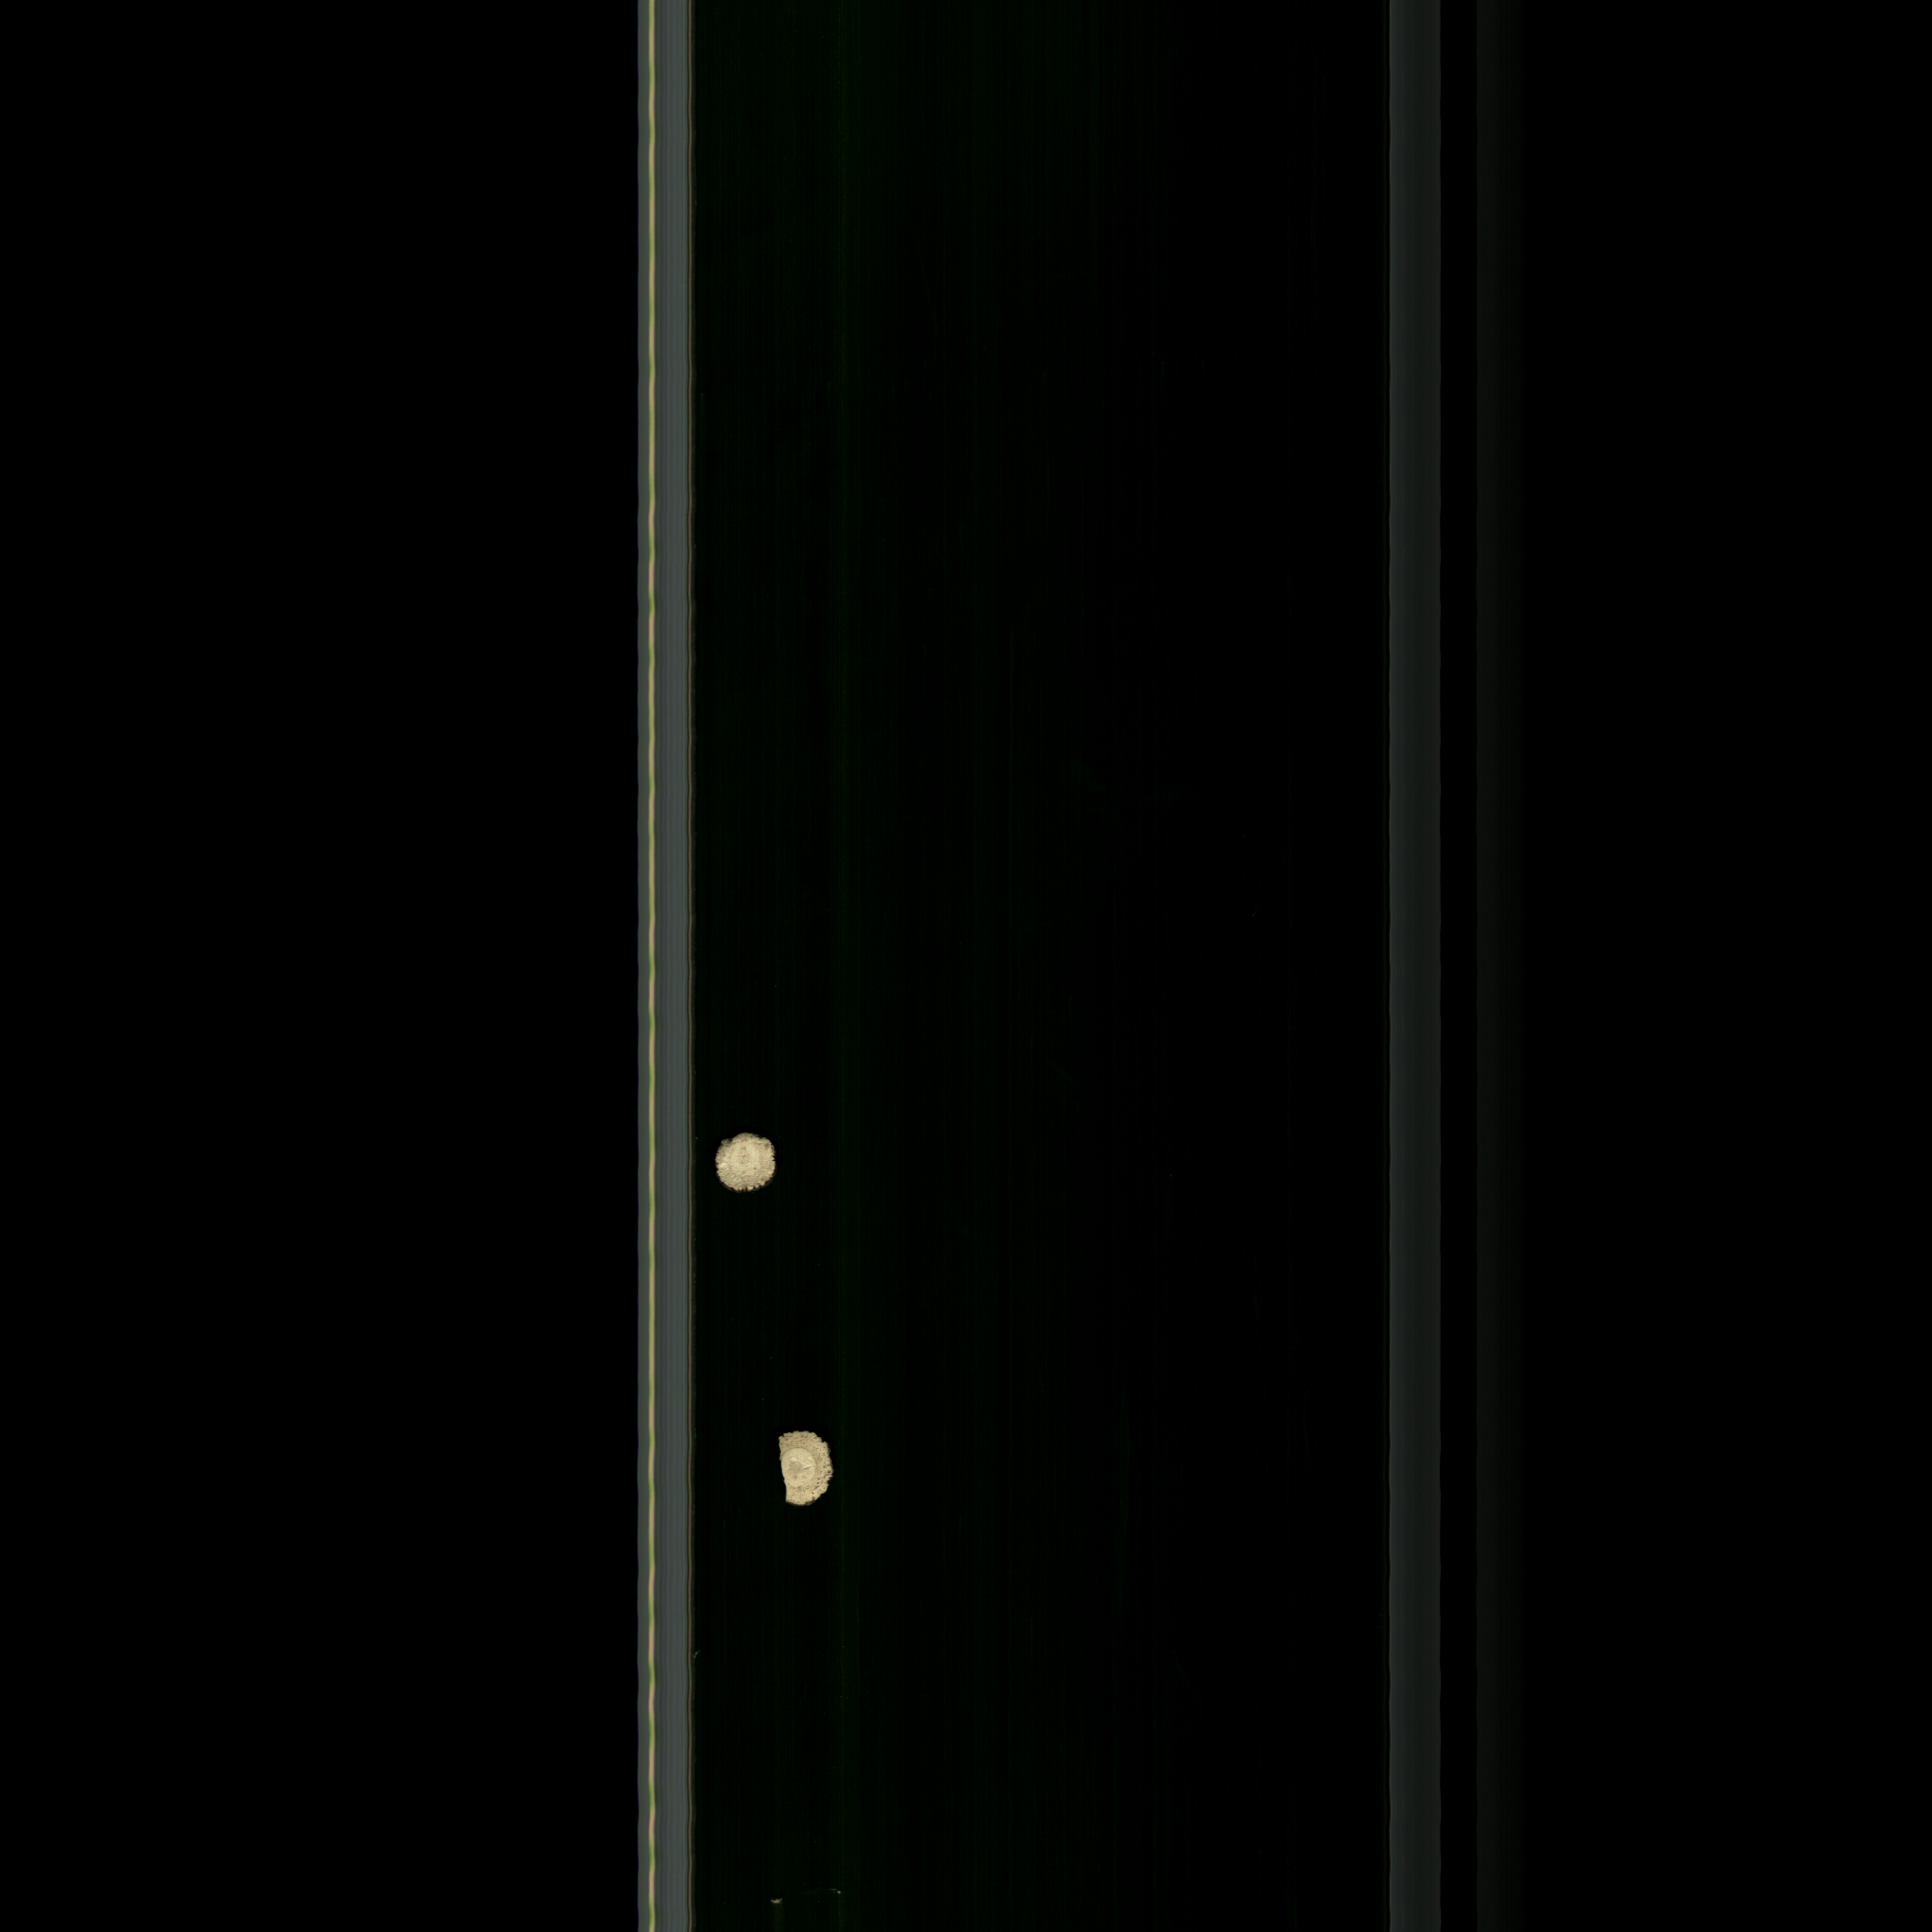debris: (754, 1424, 851, 1522)
distortion: (711, 1129, 789, 1205)
